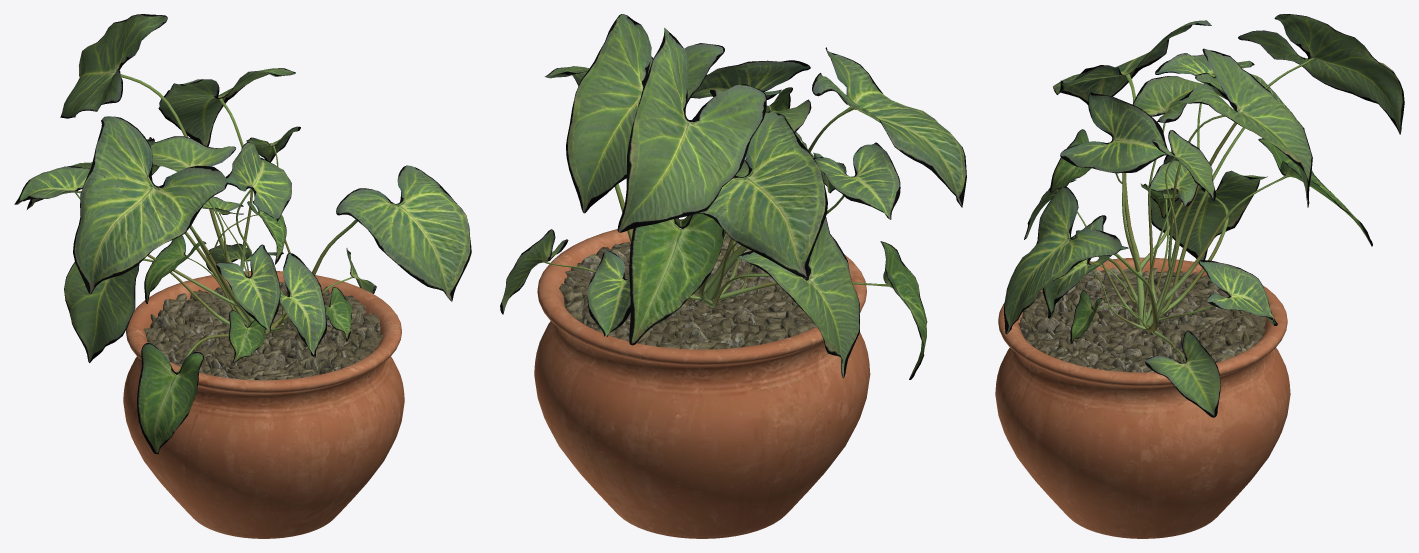
Rendered from potted_plant_02.glb.
3 views of the same model, side by side, from view 1: azimuth 30°, elevation 25°; view 2: azimuth 150°, elevation 25°; view 3: azimuth 270°, elevation 25° (orthographic). The views are drawn at different scales.
Parts seen in each view (by area): view 1: potted_plant_02_leaves, potted_plant_02_pot; view 2: potted_plant_02_leaves, potted_plant_02_pot; view 3: potted_plant_02_pot, potted_plant_02_leaves.
Part boxes in pixels (box(x1,y1,x2,y2)): potted_plant_02_leaves: box(14, 14, 471, 454); potted_plant_02_pot: box(123, 271, 404, 538); potted_plant_02_leaves: box(500, 14, 966, 379); potted_plant_02_pot: box(534, 219, 870, 538); potted_plant_02_pot: box(995, 257, 1290, 538); potted_plant_02_leaves: box(1004, 14, 1404, 417).
Size of the model in its own units: 0.7012 by 0.8412 by 0.6574.
2 materials, 2 textured.
